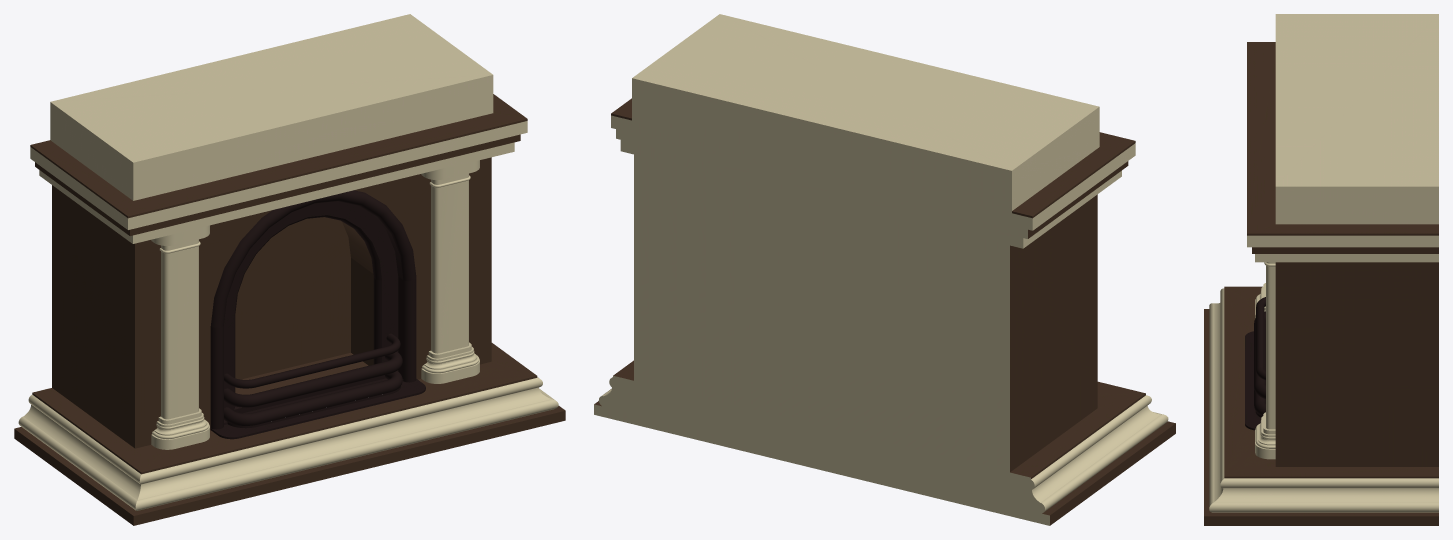
The model's file is antique_fireplace.glb.
3 views of the same model, side by side, from view 1: azimuth 30°, elevation 25°; view 2: azimuth 150°, elevation 25°; view 3: azimuth 270°, elevation 25° (orthographic). The views are drawn at different scales.
Parts seen in each view (by area): view 1: Material2 (×2); view 2: Material2; view 3: Material2 (×2).
Boxes of the visible parts, left/top/right/bottom form: Material2 (×2): left=14, top=14, right=565, bottom=525; Material2: left=594, top=14, right=1175, bottom=525; Material2 (×2): left=1204, top=14, right=1438, bottom=525.
Size of the model in its own units: 94.49 by 68.51 by 45.27.
Materials: 3 (3 with a texture image).
